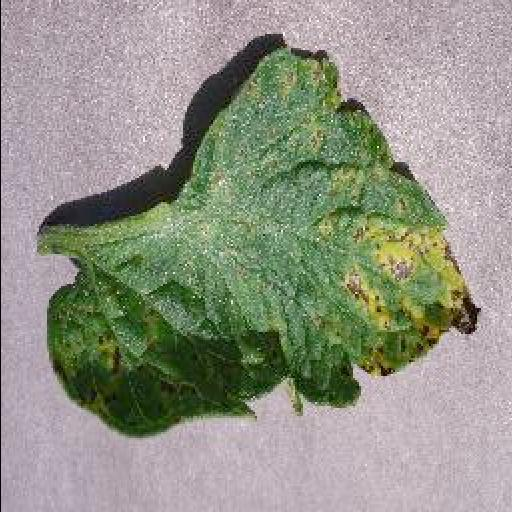disease_tomato: (41, 52, 483, 438)
